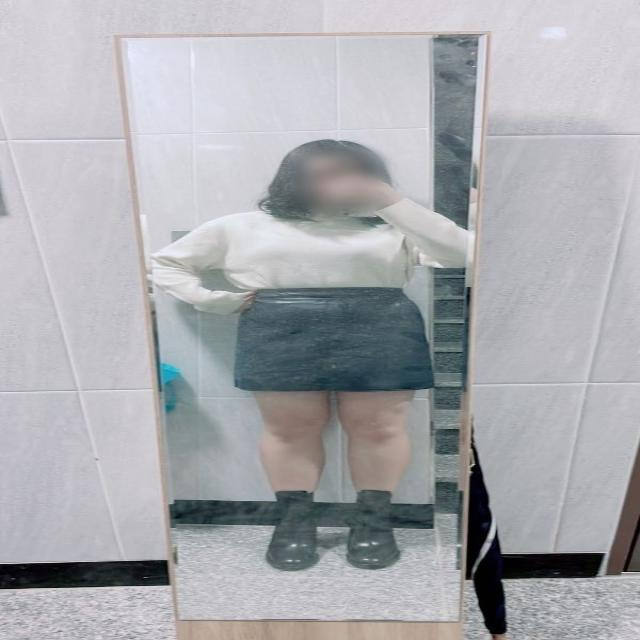longsleeve: (150, 194, 468, 314)
skirt: (232, 284, 438, 391)
